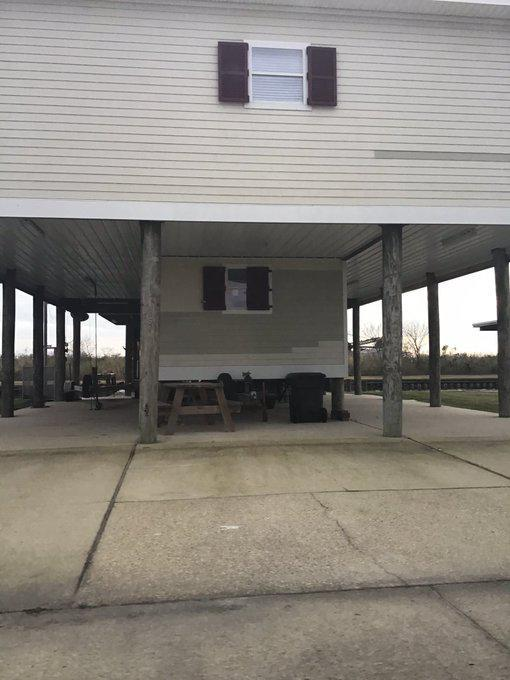minor: (0, 0, 510, 439)
